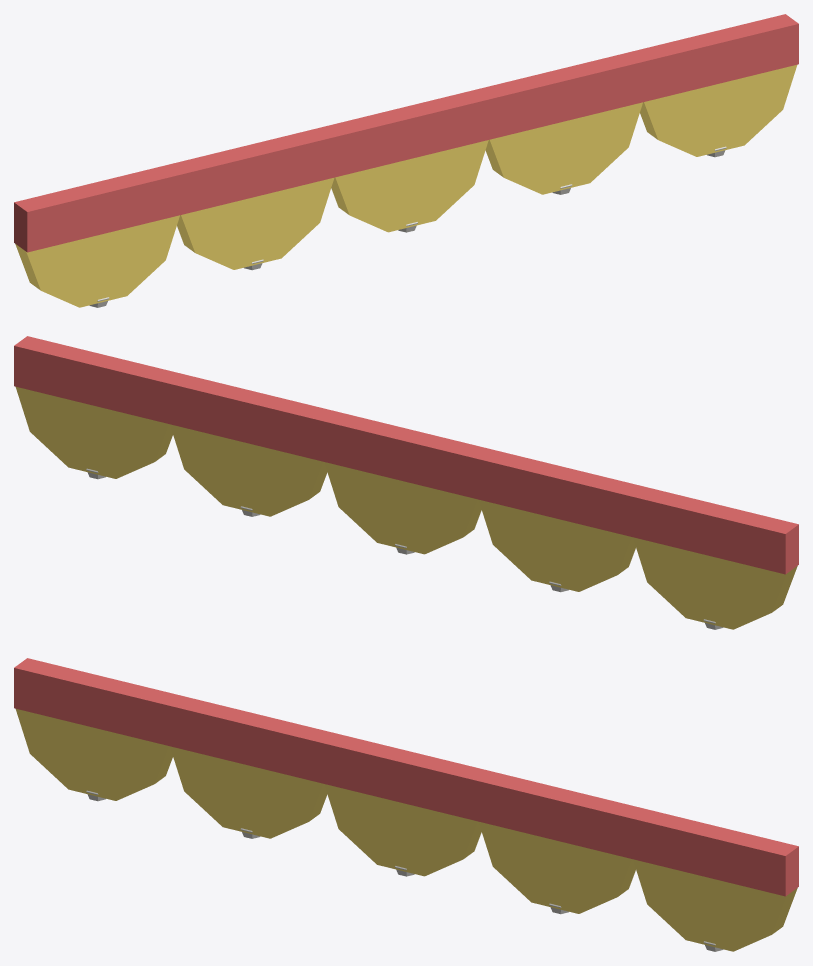
The model's file is travelling-circus-and-big-top-big-top-valance-9c542672__36229.glb.
The picture shows the model from 3 angles, top to bottom: view 1: azimuth 30°, elevation 25°; view 2: azimuth 150°, elevation 25°; view 3: azimuth 330°, elevation 25°; orthographic projection.
Visible parts, largest first — view 1: big-top-valance-stripe, big-top-valance-gold, big-top-valance-canvas; view 2: big-top-valance-stripe, big-top-valance-gold, big-top-valance-canvas; view 3: big-top-valance-stripe, big-top-valance-gold, big-top-valance-canvas.
Part boxes in pixels (x1,y1,x2,y2): big-top-valance-stripe: (14, 14, 798, 252); big-top-valance-gold: (15, 65, 797, 307); big-top-valance-canvas: (89, 146, 726, 307); big-top-valance-stripe: (14, 336, 798, 574); big-top-valance-gold: (15, 387, 797, 629); big-top-valance-canvas: (86, 468, 723, 629); big-top-valance-stripe: (14, 658, 798, 896); big-top-valance-gold: (15, 709, 797, 951); big-top-valance-canvas: (86, 790, 723, 951).
Size of the model in its own units: 4 by 0.5901 by 0.1201.
